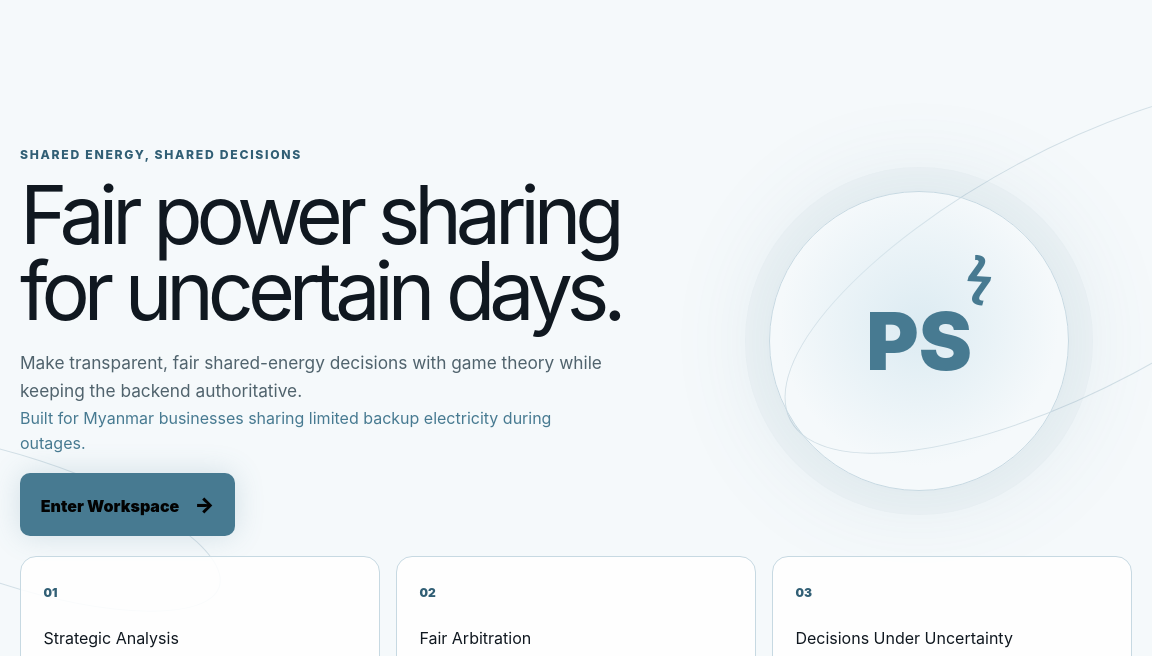
Scenario: ScenarioForm — guided UX › renders all 5 urgency buttons with labels
The width and height of the screenshot is (1152, 656).
Click the button "Enter Workspace →" at coordinates (128, 504), box [20, 473, 235, 536]
(page scrolled)
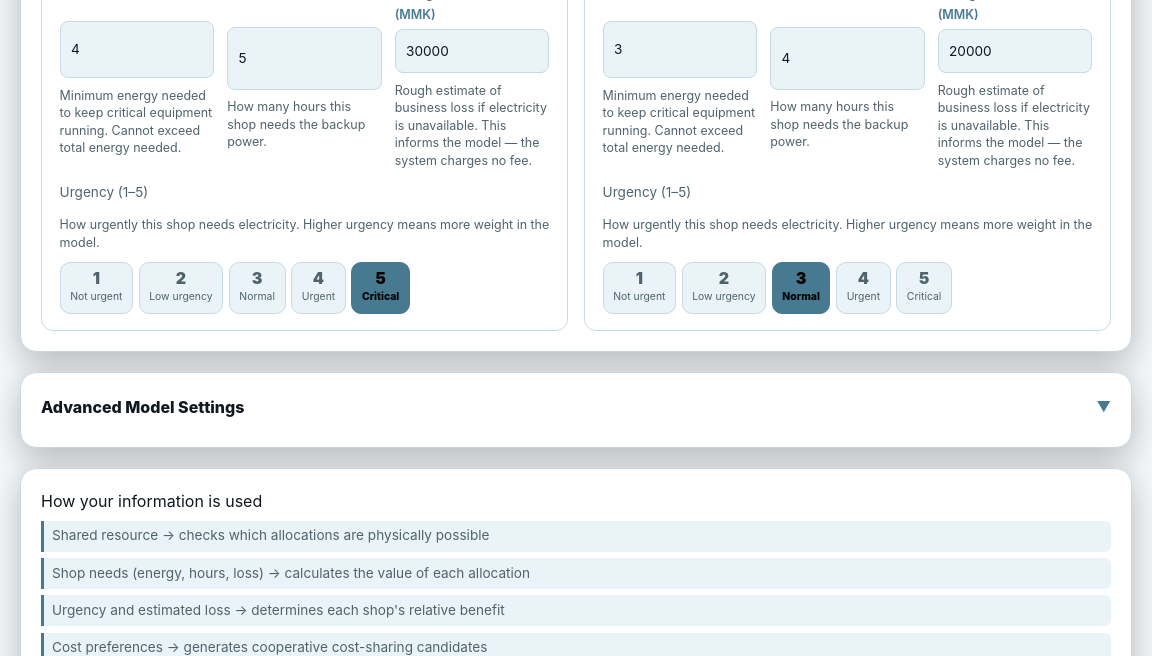
Check: the 1st text "Not urgent" is shown, box [70, 290, 122, 303]
Check: the 1st text "Low urgency" is shown, box [149, 290, 213, 303]
Check: the 1st text "Normal" is shown, box [239, 290, 275, 303]
